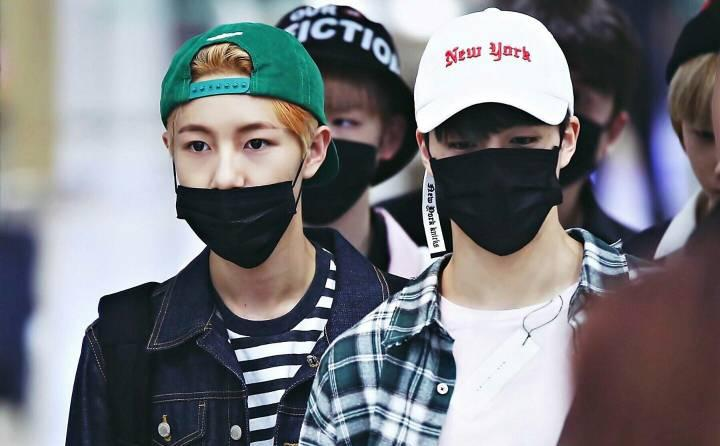NONE: (687, 112, 720, 208)
OK: (433, 122, 572, 252), (269, 104, 381, 224), (513, 65, 619, 187)
WRONG: (167, 118, 299, 250)
